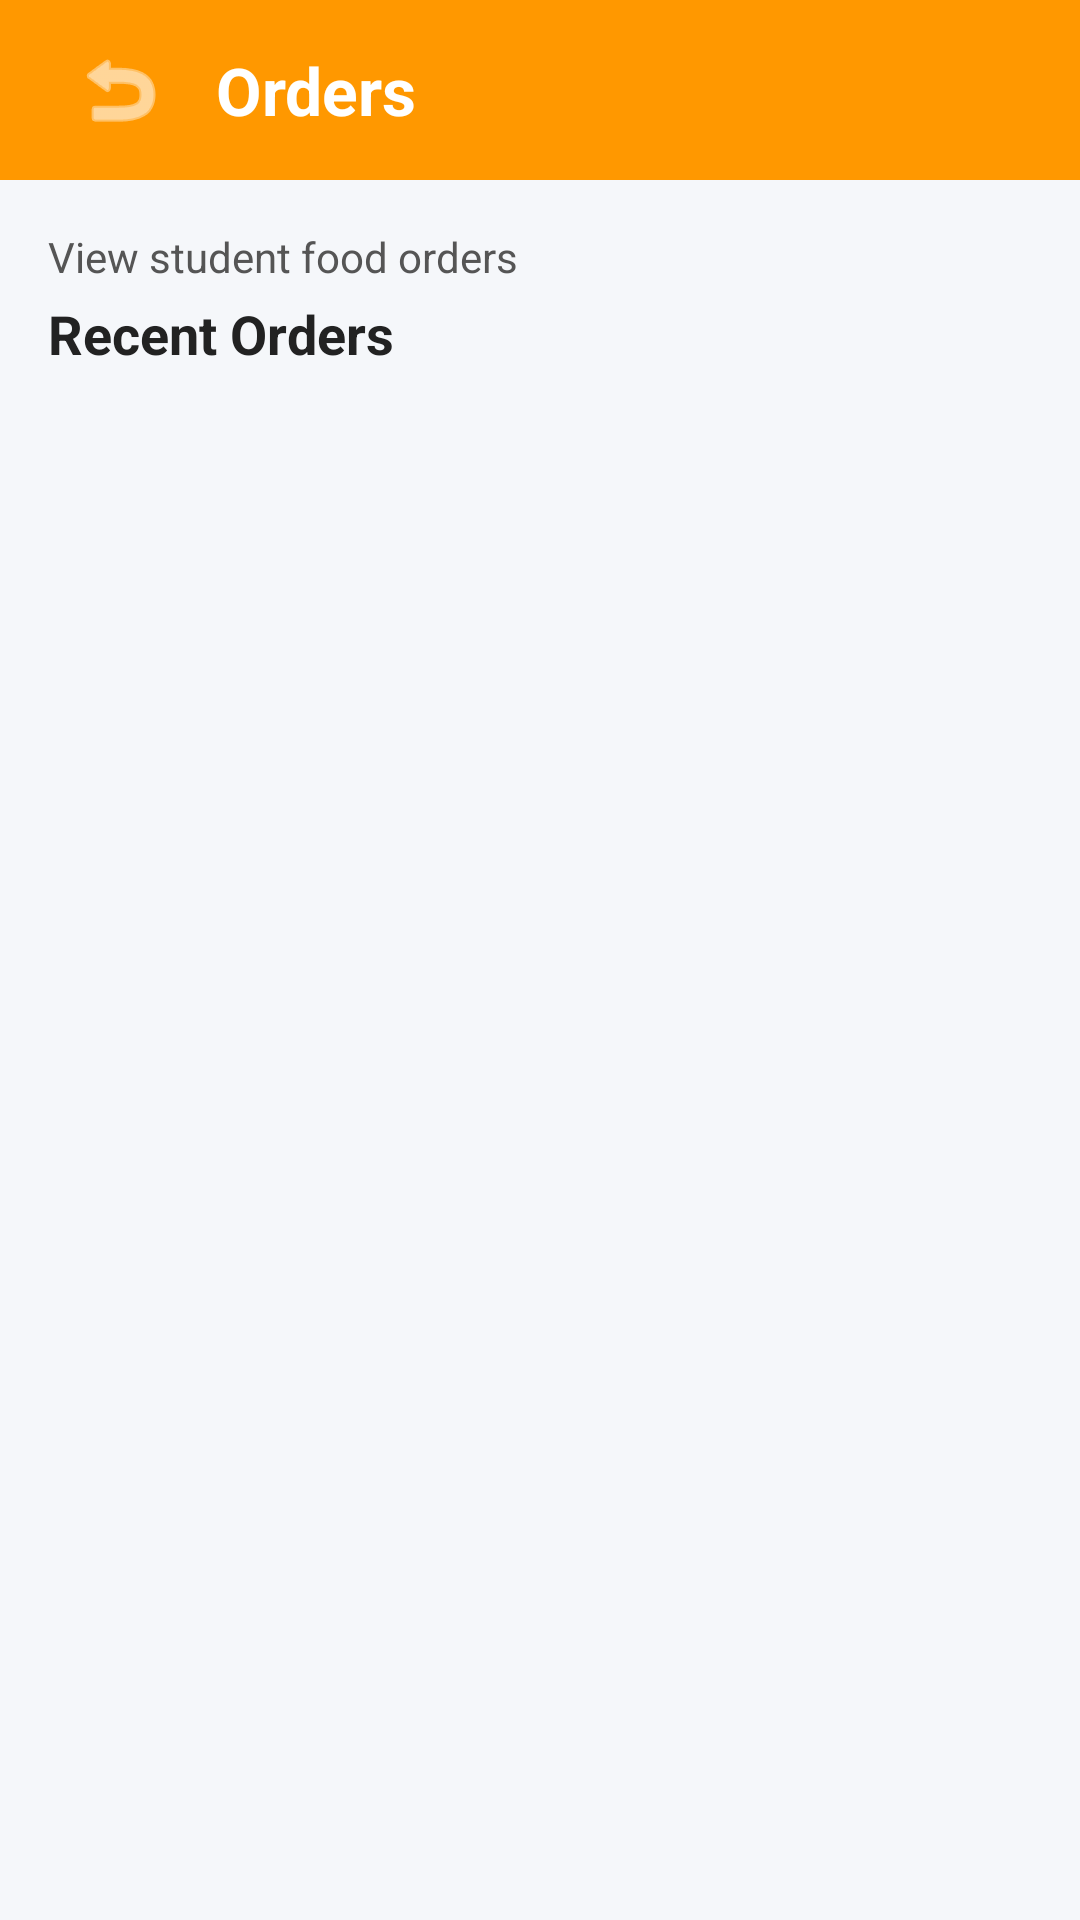

Icons on this 1080 × 1920 Android screen, each with its box as (x1, y1, x2, y2):
Back to Dashboard: (87, 59, 156, 122)
